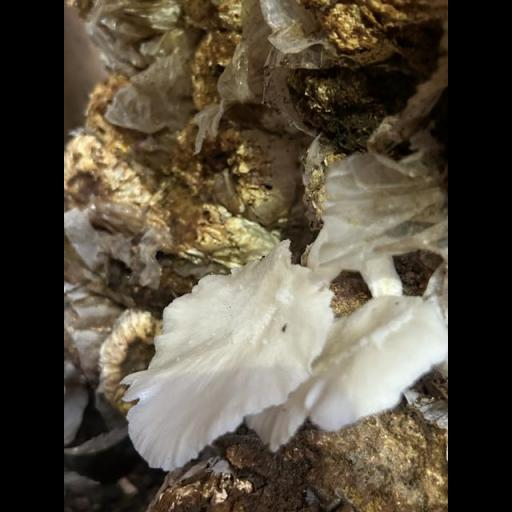White Oyster Mushroom: (132, 254, 449, 473)
